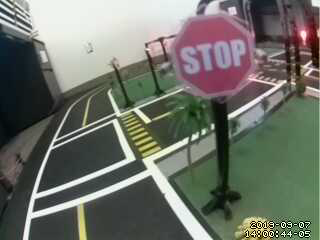Stop_Sign: (169, 15, 260, 105)
